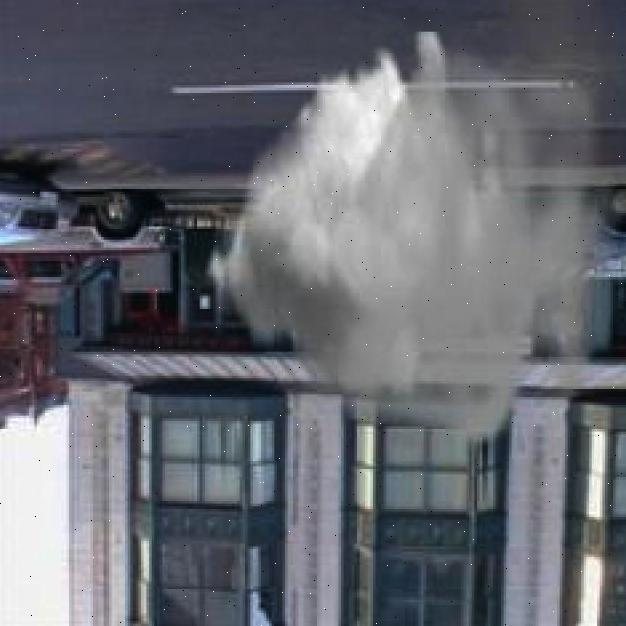smoke: (202, 32, 624, 453)
